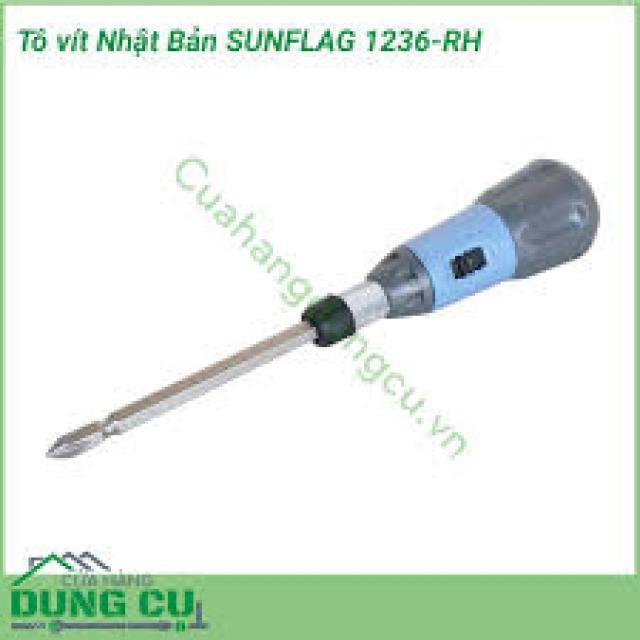screwdriver: (40, 158, 598, 462)
